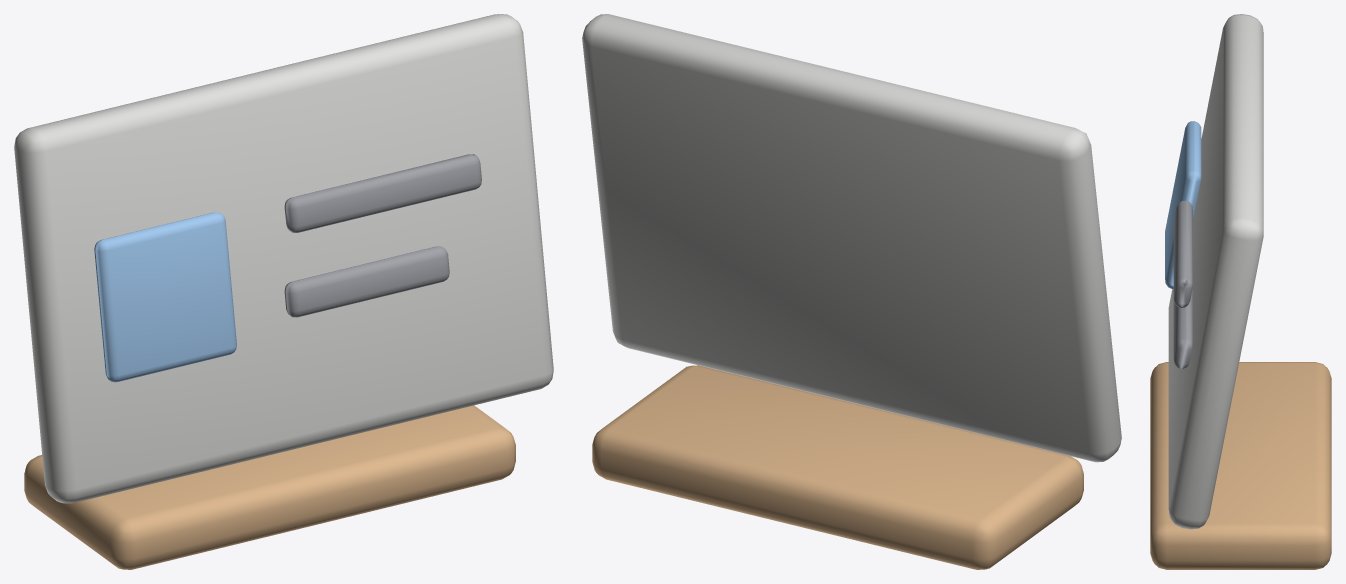
Rendered from profile--intro.glb.
The picture shows the model from 3 angles, left to right: view 1: azimuth 30°, elevation 25°; view 2: azimuth 150°, elevation 25°; view 3: azimuth 270°, elevation 25°; orthographic projection. The views are drawn at different scales.
Visible parts, largest first — view 1: profile--intro; view 2: profile--intro; view 3: profile--intro.
Part boxes in pixels (x1,y1,x2,y2): profile--intro: (14, 14, 553, 569); profile--intro: (582, 14, 1121, 569); profile--intro: (1150, 14, 1331, 569).
Bounding box in the file's own units: 0.6201 × 0.4976 × 0.22.
